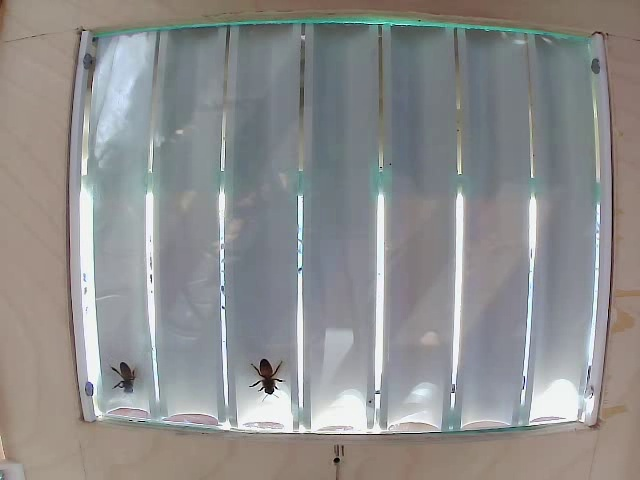bee: (105, 363, 149, 401), (250, 358, 293, 396)
